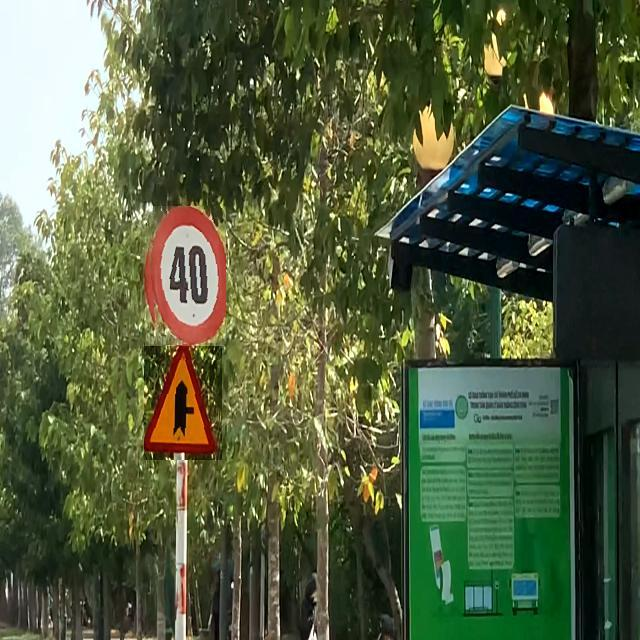P-127: (145, 206, 226, 346)
W-207b: (144, 343, 222, 460)
